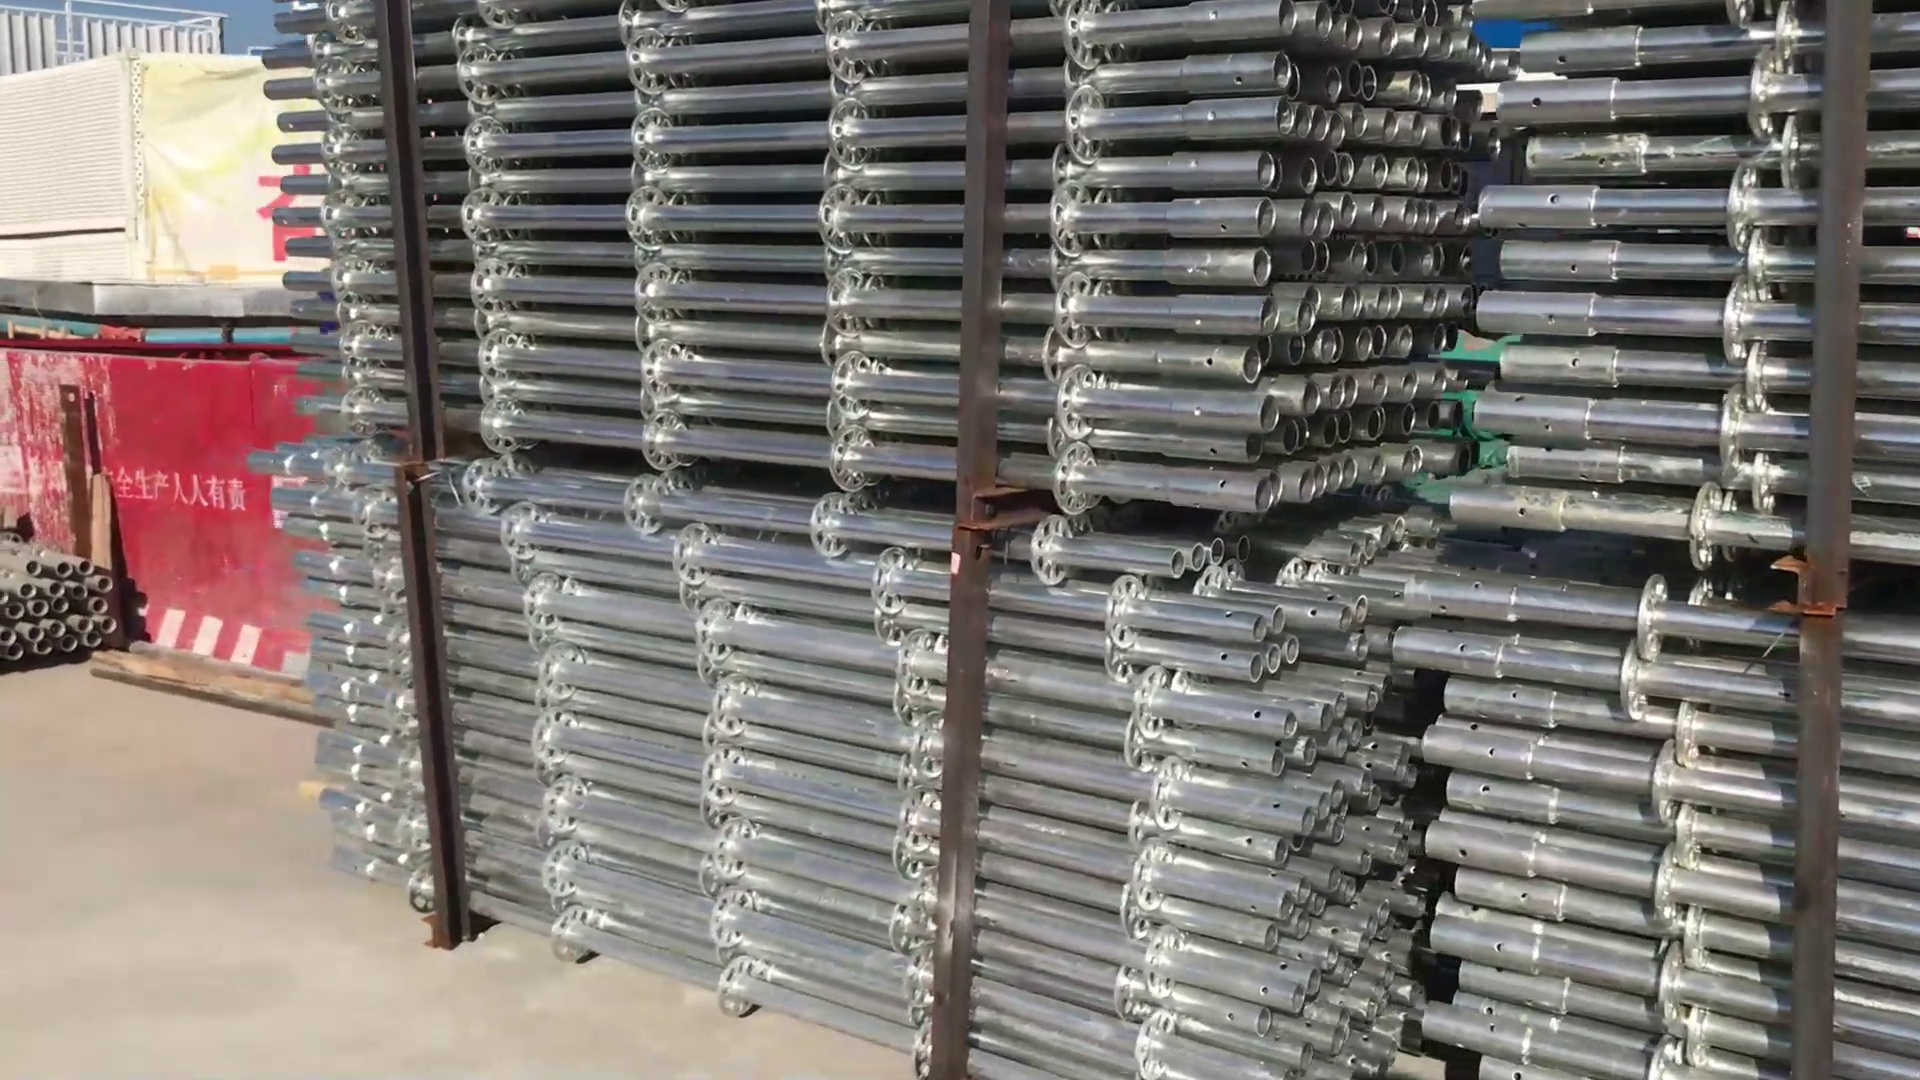fence: (5, 345, 315, 683)
scaffold: (266, 7, 1916, 1080), (1, 550, 135, 665)
